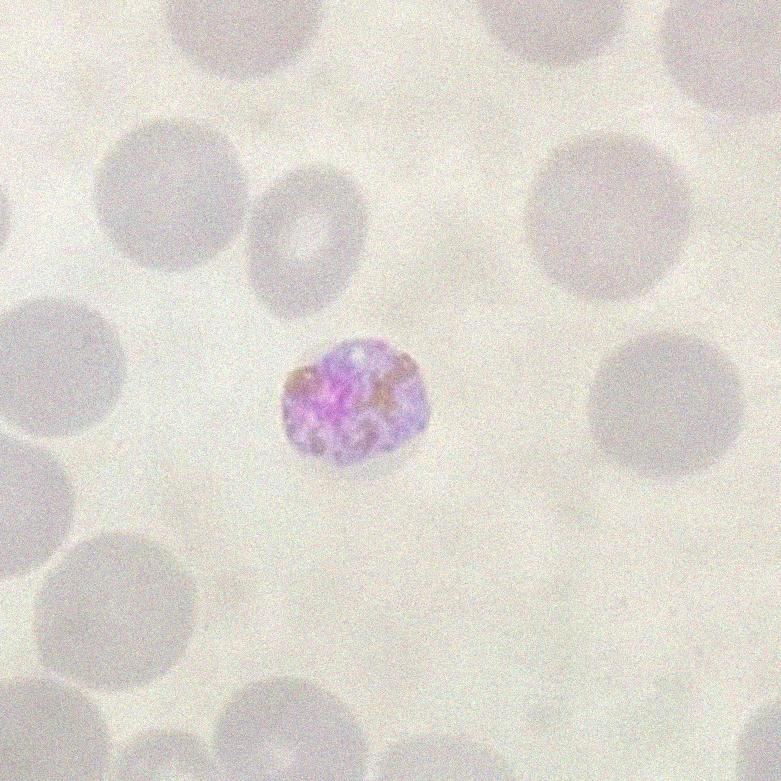Infected: (278, 341, 431, 484)
Uninfected: (528, 133, 689, 298), (34, 531, 194, 691), (92, 121, 245, 268), (594, 333, 741, 477), (246, 165, 366, 328), (0, 299, 119, 440), (216, 675, 361, 781), (162, 0, 321, 89), (664, 5, 781, 121), (0, 673, 110, 781), (0, 437, 69, 577)
